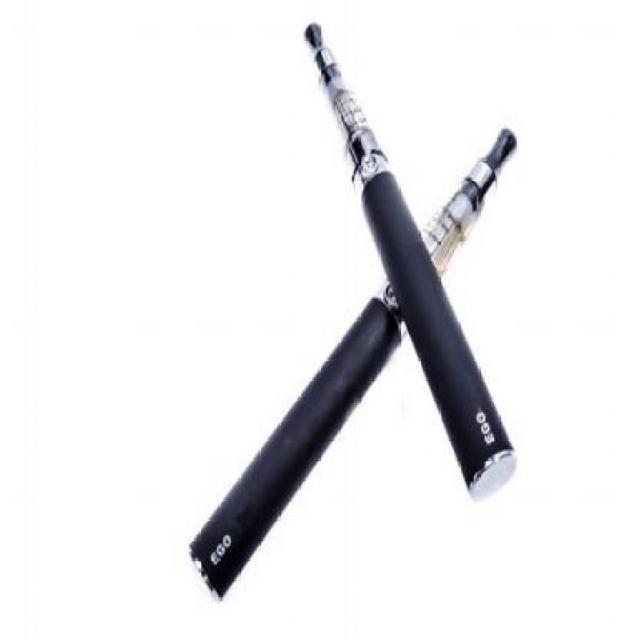cigarette: (173, 122, 522, 612), (293, 15, 521, 503)
